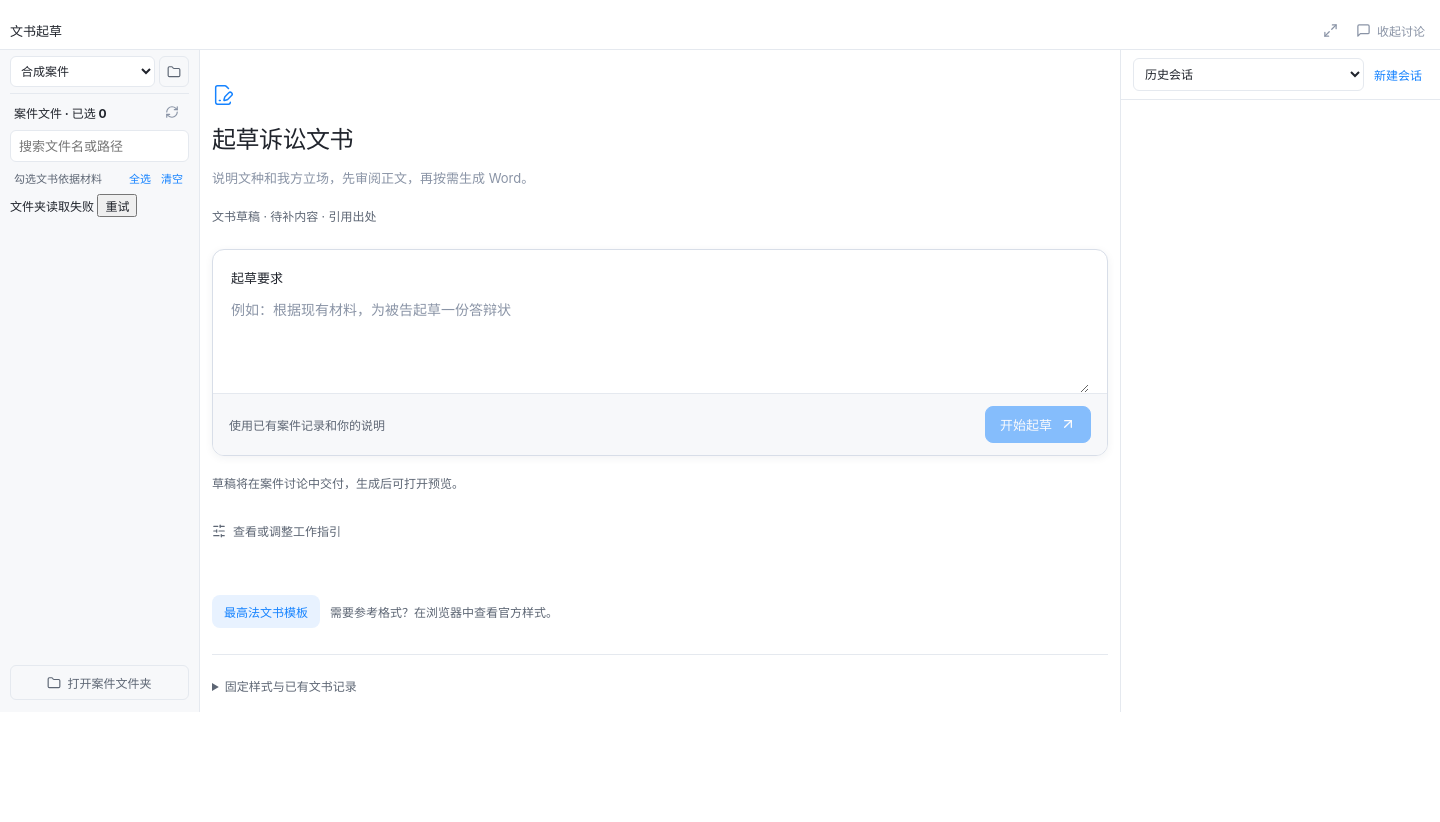
Scenario: read failure offers retry and AI can collapse without replacing the case page
The width and height of the screenshot is (1440, 822).
Step 1. Click the button "重试" → (117,206), box [97,194,137,217]
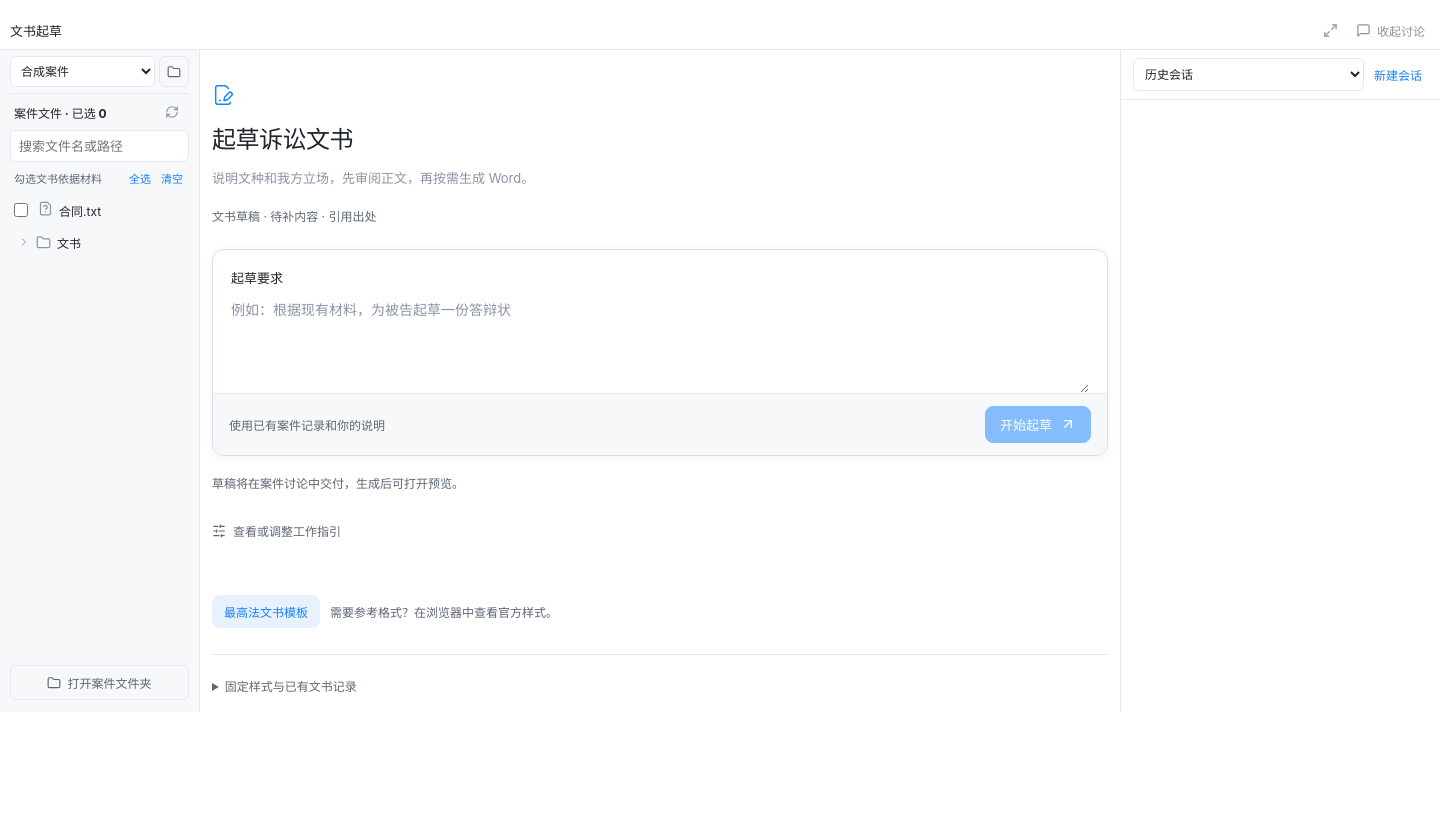
Check: the button "合同.txt" is shown, box [30,194,189,226]
Step 2. Click the button "收起讨论" → (1390,30), box [1351,15,1430,46]
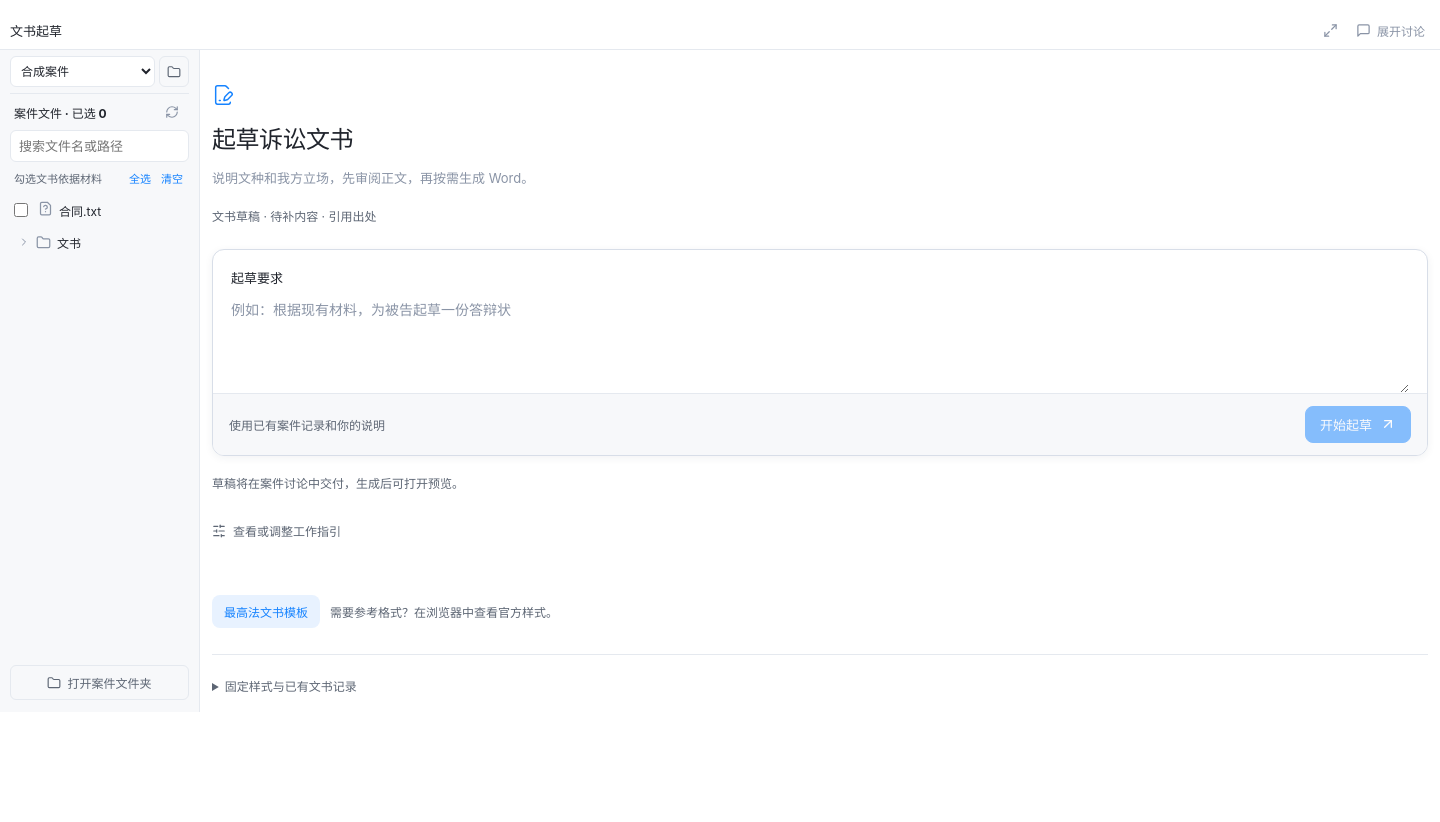
Step 3. Click the button "展开讨论" → (1390,30), box [1351,15,1430,46]
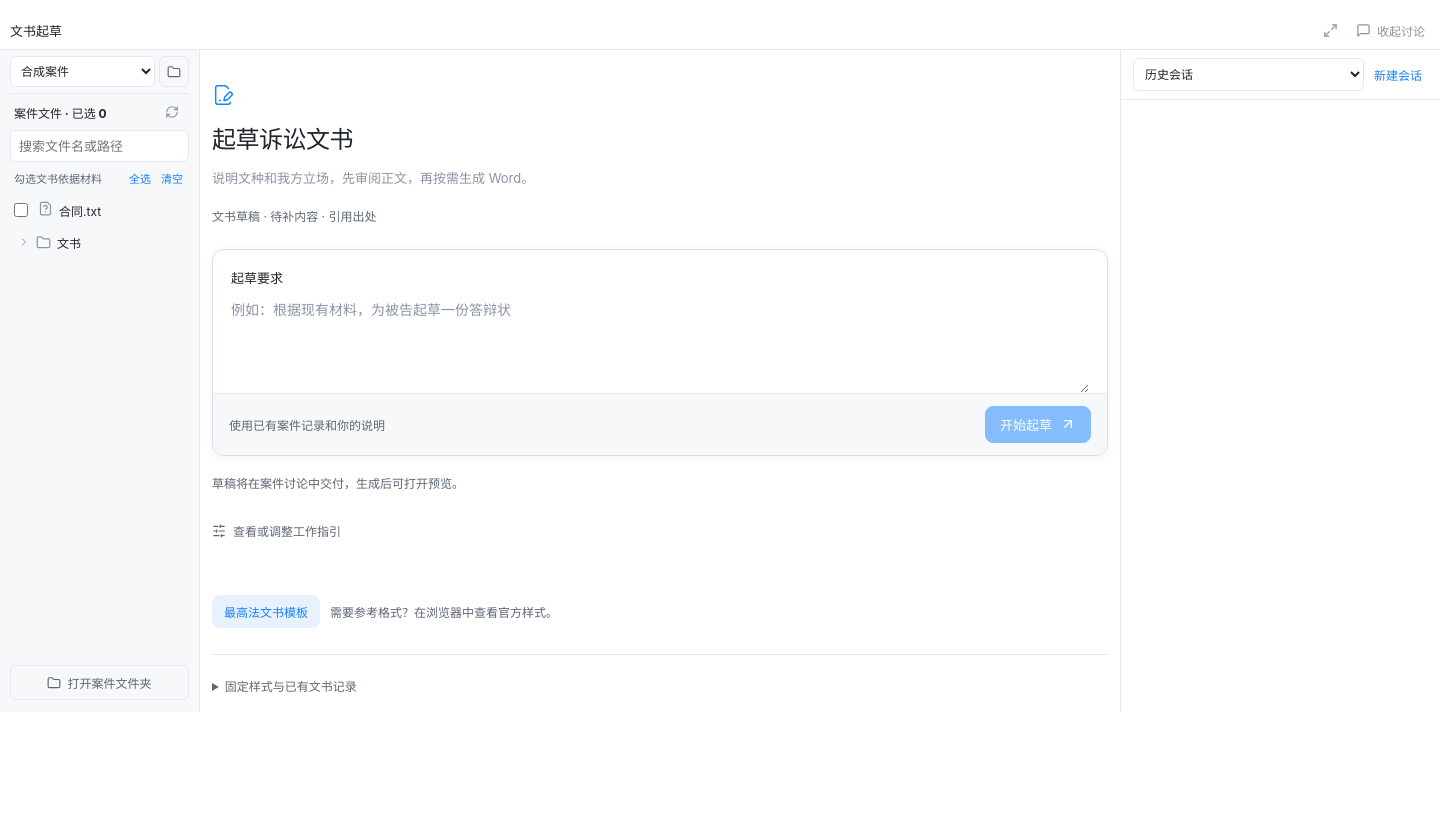
Check: the element named "案件 AI 助手" is shown, box [1120,50,1439,712]
